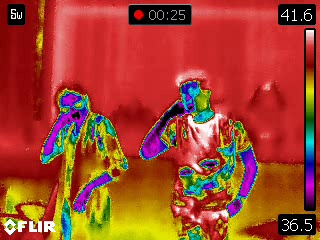human: (139, 68, 258, 240), (40, 81, 129, 240)
